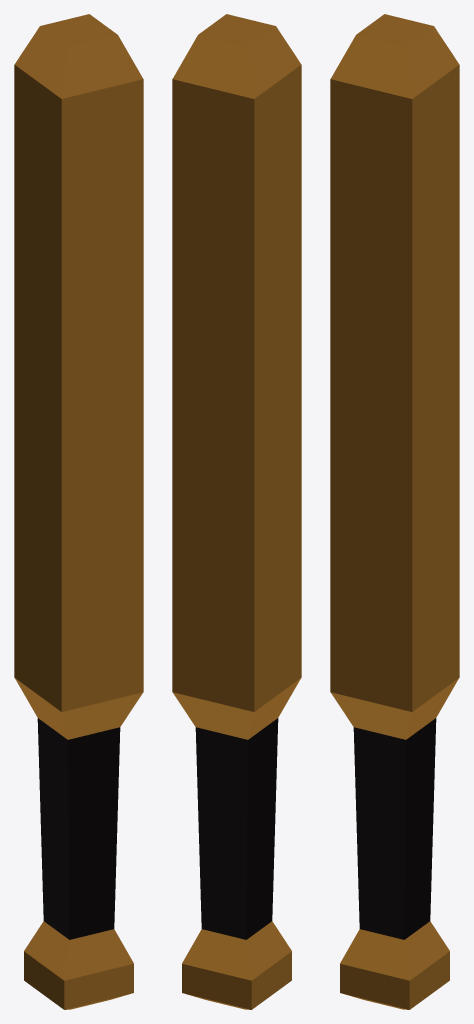
Rendered from Baseball Bat.obj.
3 views of the same model, side by side, from view 1: azimuth 30°, elevation 25°; view 2: azimuth 150°, elevation 25°; view 3: azimuth 330°, elevation 25° (orthographic).
Parts seen in each view (by area): view 1: Cube.003; view 2: Cube.003; view 3: Cube.003.
Part boxes in pixels (x1=…): Cube.003: x1=14, y1=14, x2=143, y2=1009; Cube.003: x1=172, y1=14, x2=301, y2=1009; Cube.003: x1=330, y1=14, x2=459, y2=1009.
Bounding box in the file's own units: 0.0825 × 0.9309 × 0.0825.
